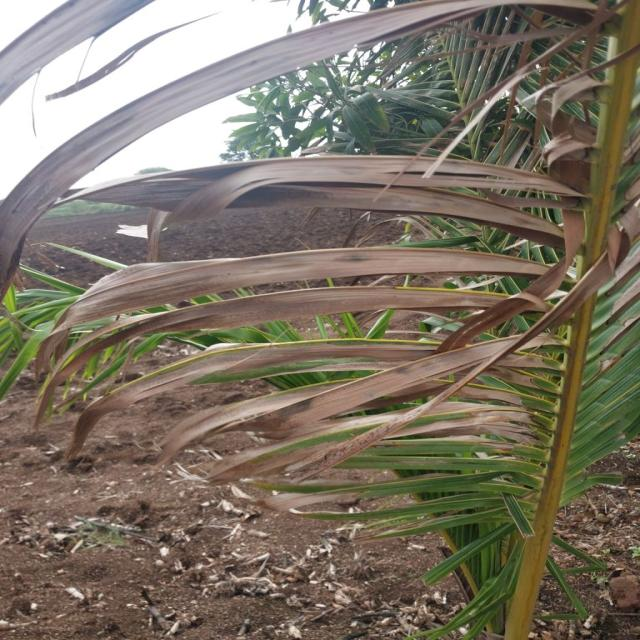gray leaf spot: (2, 0, 639, 640), (3, 0, 152, 96)
